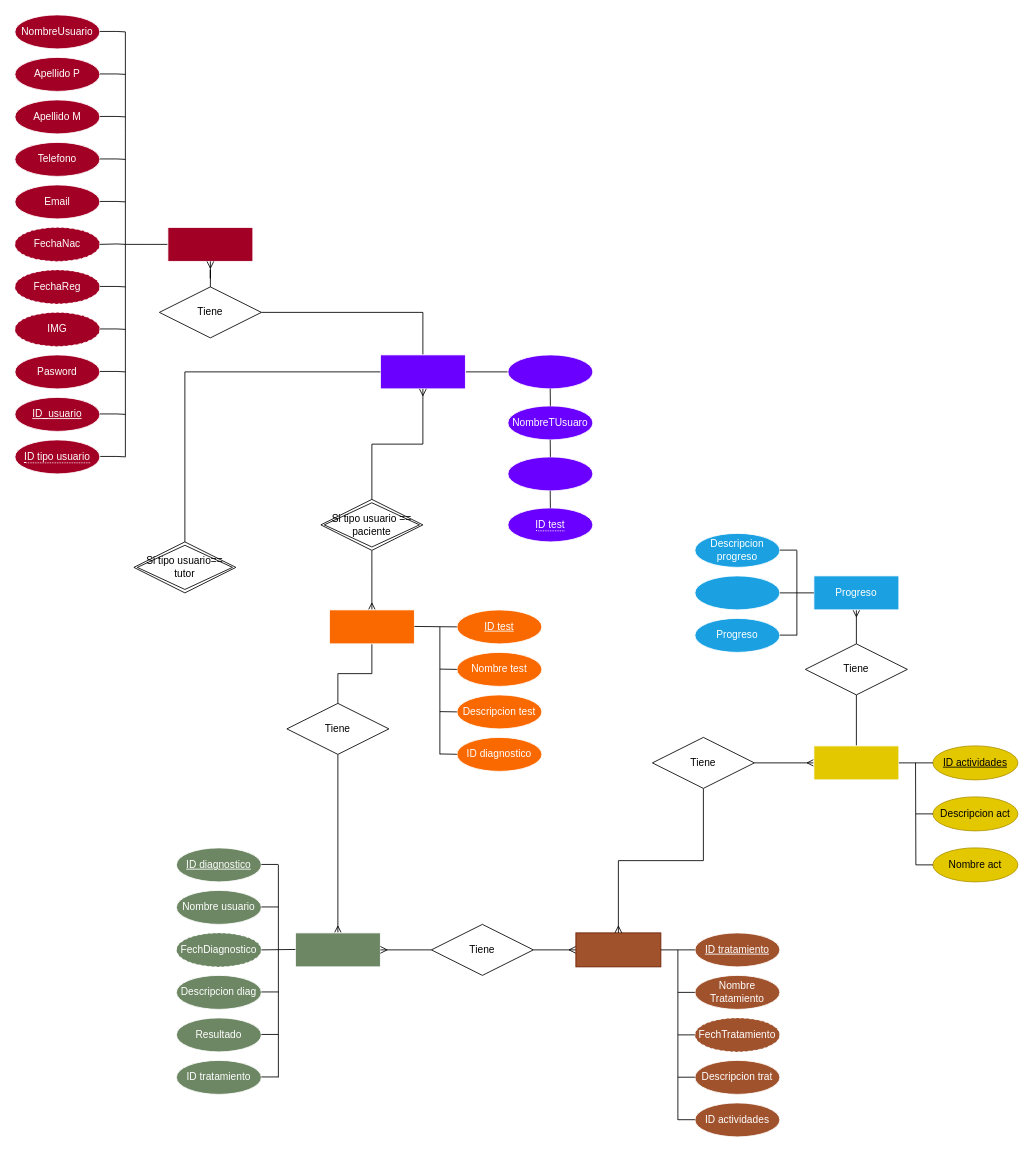
Image size: 1033x1152. Some labels were removed from this diagram. The shapes that lost their labels are listed below. From the top down, each one's centre as x and y in pixels, then its label:
At point 210,244: "Usuario".
At point 422,371: "TipoUsuario".
At point 550,371: "ID_TUsuario".
At point 550,473: "Descripcion TUsuario".
At point 737,592: "ID progreso".
At point 371,626: "Test".
At point 856,762: "Actividades".
At point 337,949: "Diagnostico".
At point 618,949: "Tratamiento".
